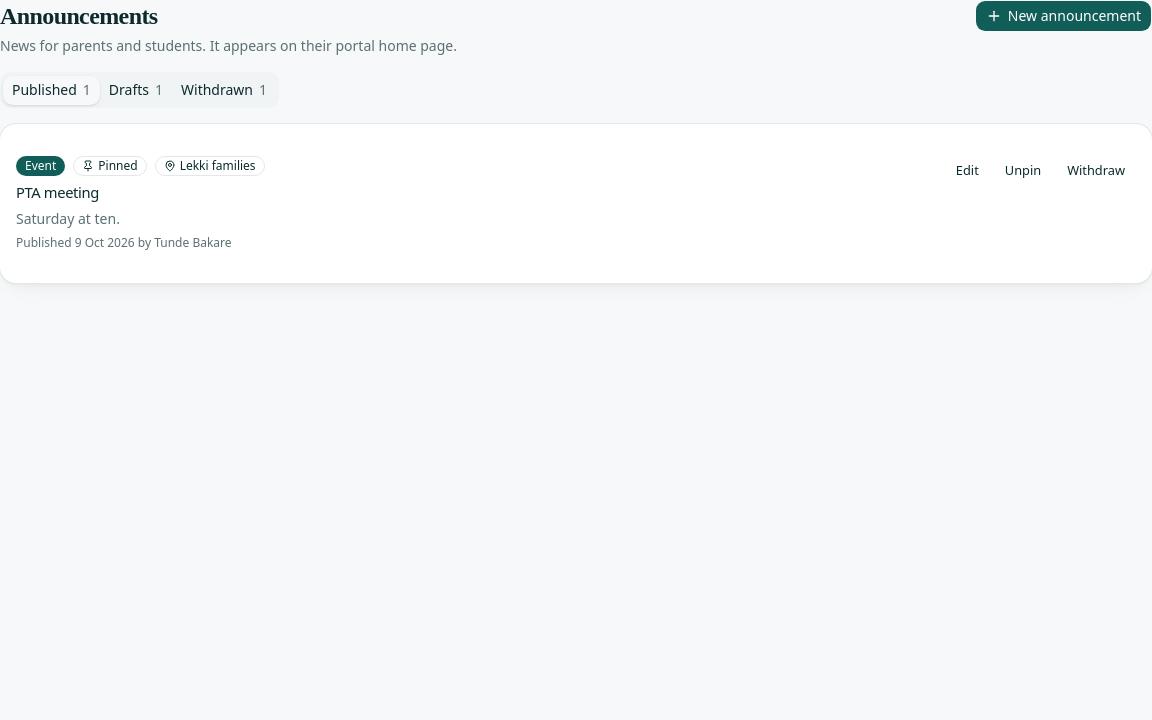
AnnouncementsPage editor › hides Save as draft when editing a published item
Click the button "Edit". click: coordinates (967, 170)
box: [945,156,990,184]
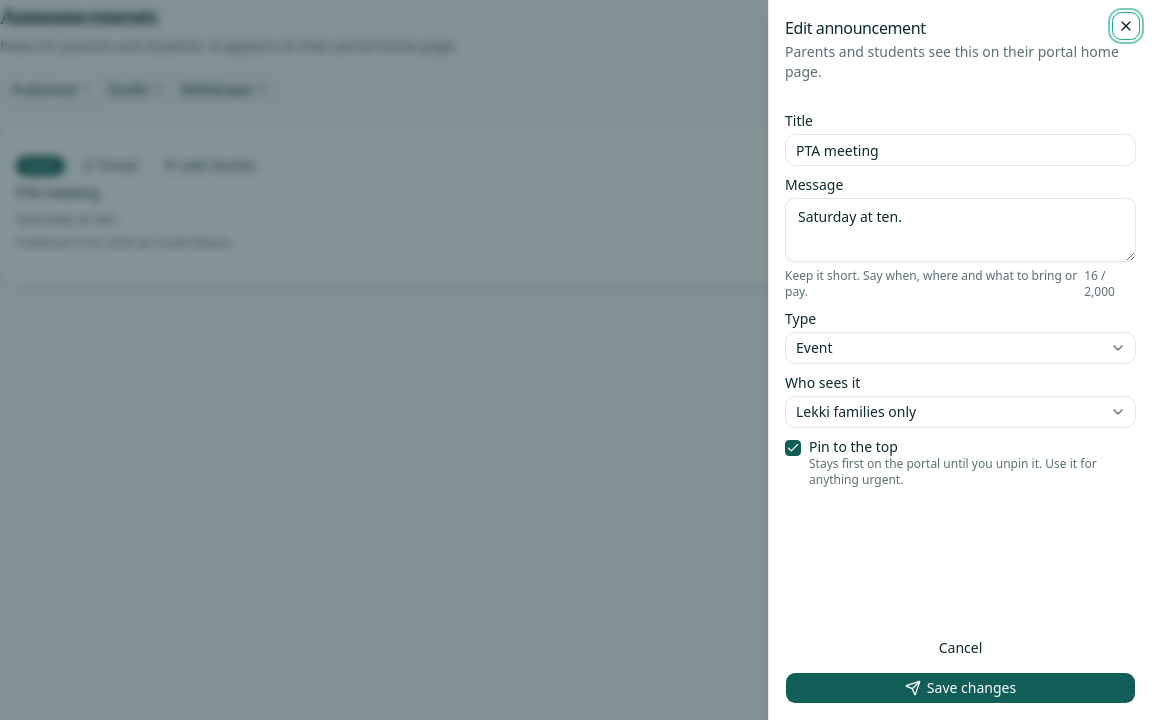
Result: the button "Save changes" is shown at [785,672,1136,704]
Result: the field labelled "Title" holds "PTA meeting" at [785,134,1136,166]
